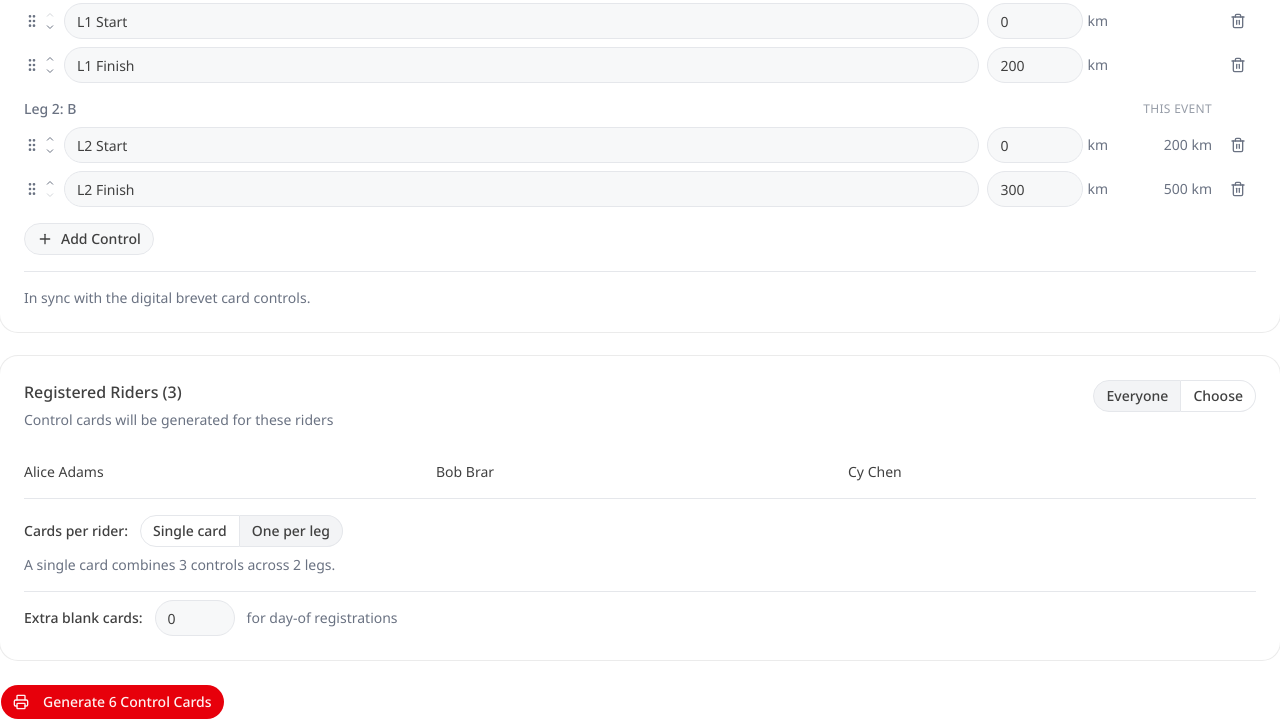
Test: ControlCardsForm collection legs › offers one card per leg by default and a single-card option when all controls fit
This screenshot has width=1280, height=720.
(page scrolled)
Click the radio button labelled "Single card": click(190, 531) [140, 515, 240, 547]
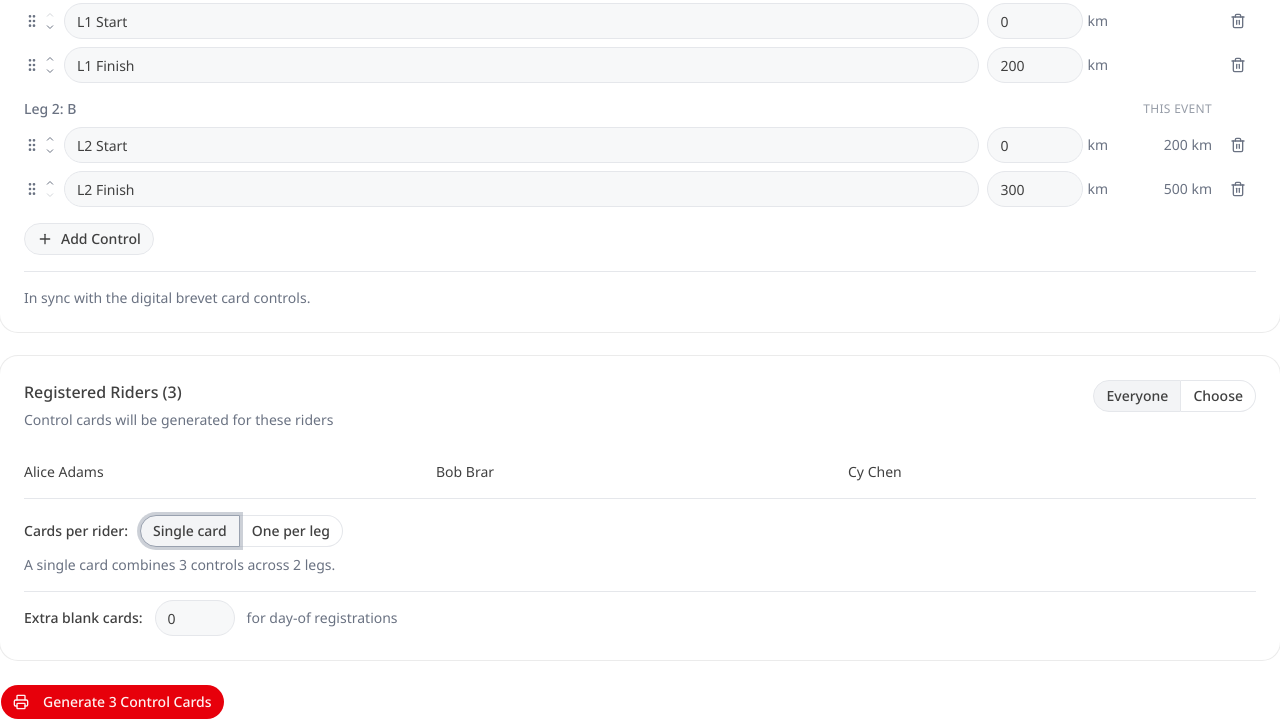
expect the link "Generate 3 Control Cards" is shown: met, box [0, 684, 225, 719]
